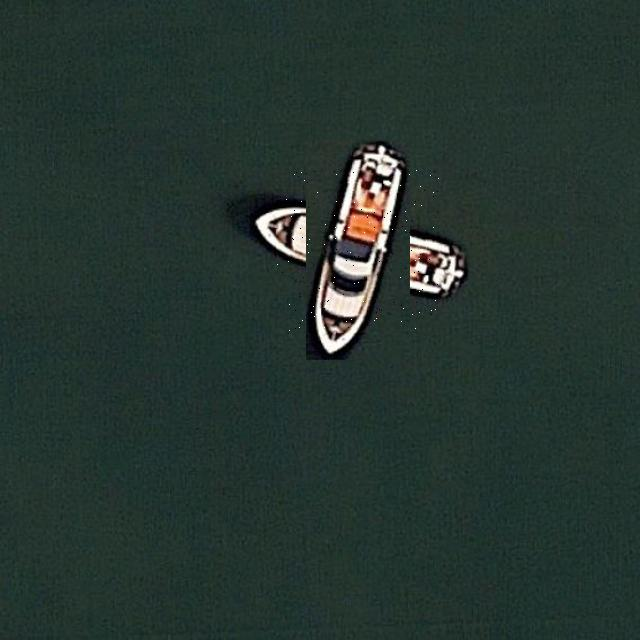boat: (277, 169, 440, 331)
